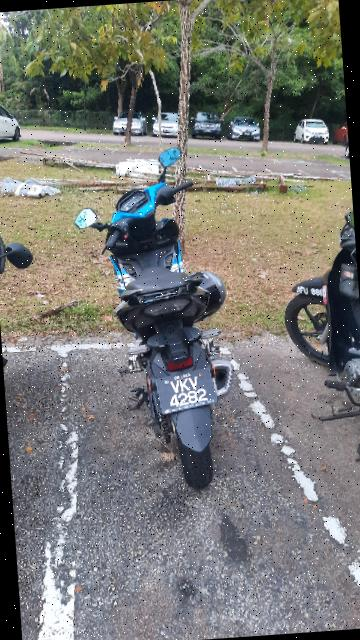License_Plate: (141, 364, 220, 418)
motorcycle: (68, 133, 259, 502)
